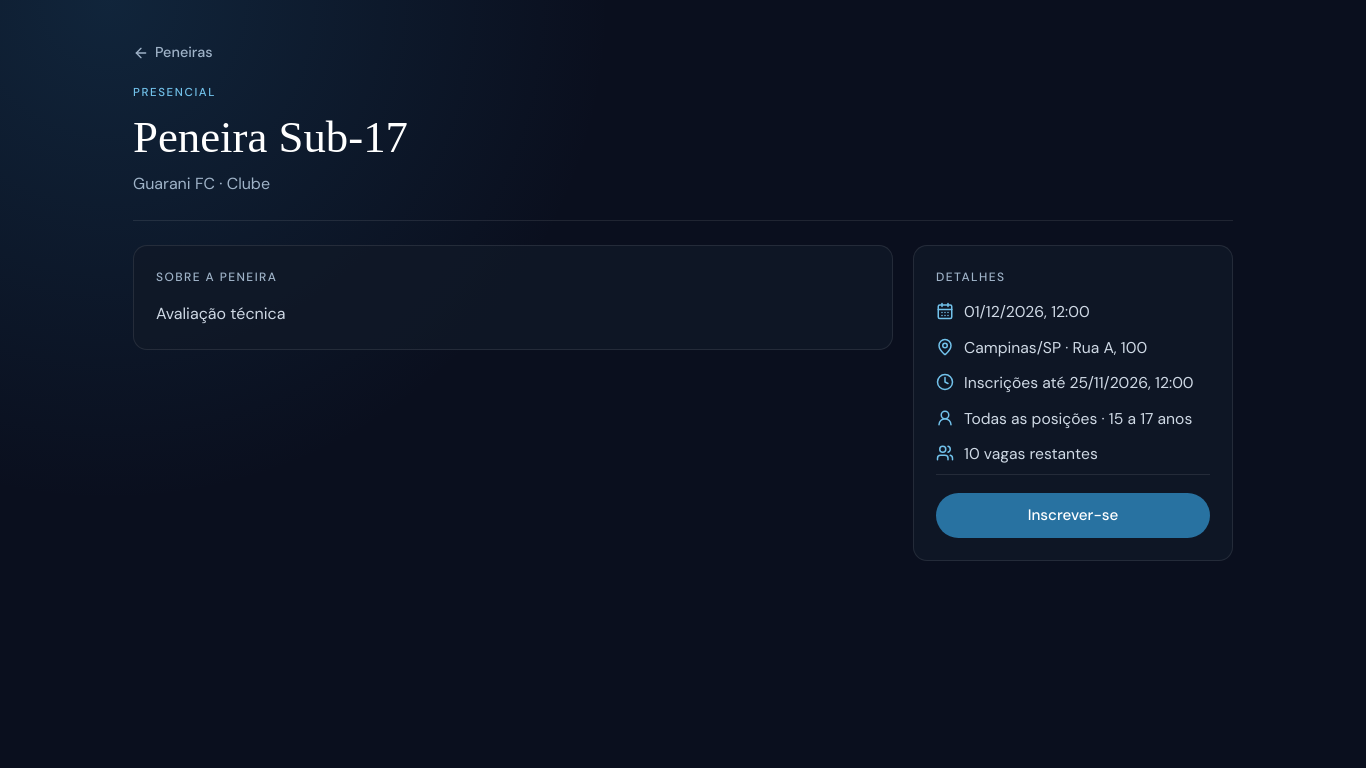
Test: OpportunityDetail — erros › mostra o erro da ação e limpa na próxima tentativa
This screenshot has width=1366, height=768.
Click the button "Inscrever-se". click: (1073, 515)
box: x1=936 y1=493 x2=1210 y2=538
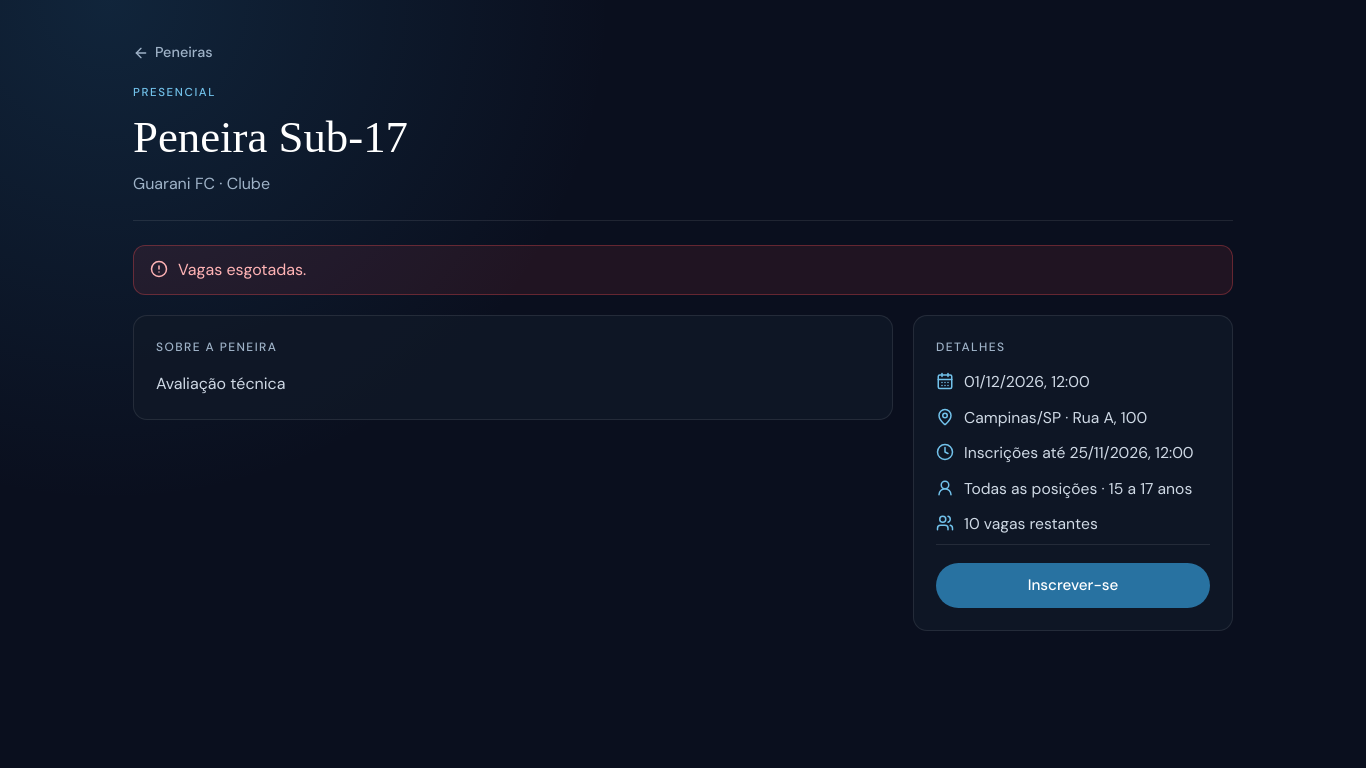
Check: the message reads "Vagas esgotadas.", box x1=178 y1=259 x2=306 y2=280
Click the button "Inscrever-se". click: (1073, 585)
box: x1=936 y1=563 x2=1210 y2=608
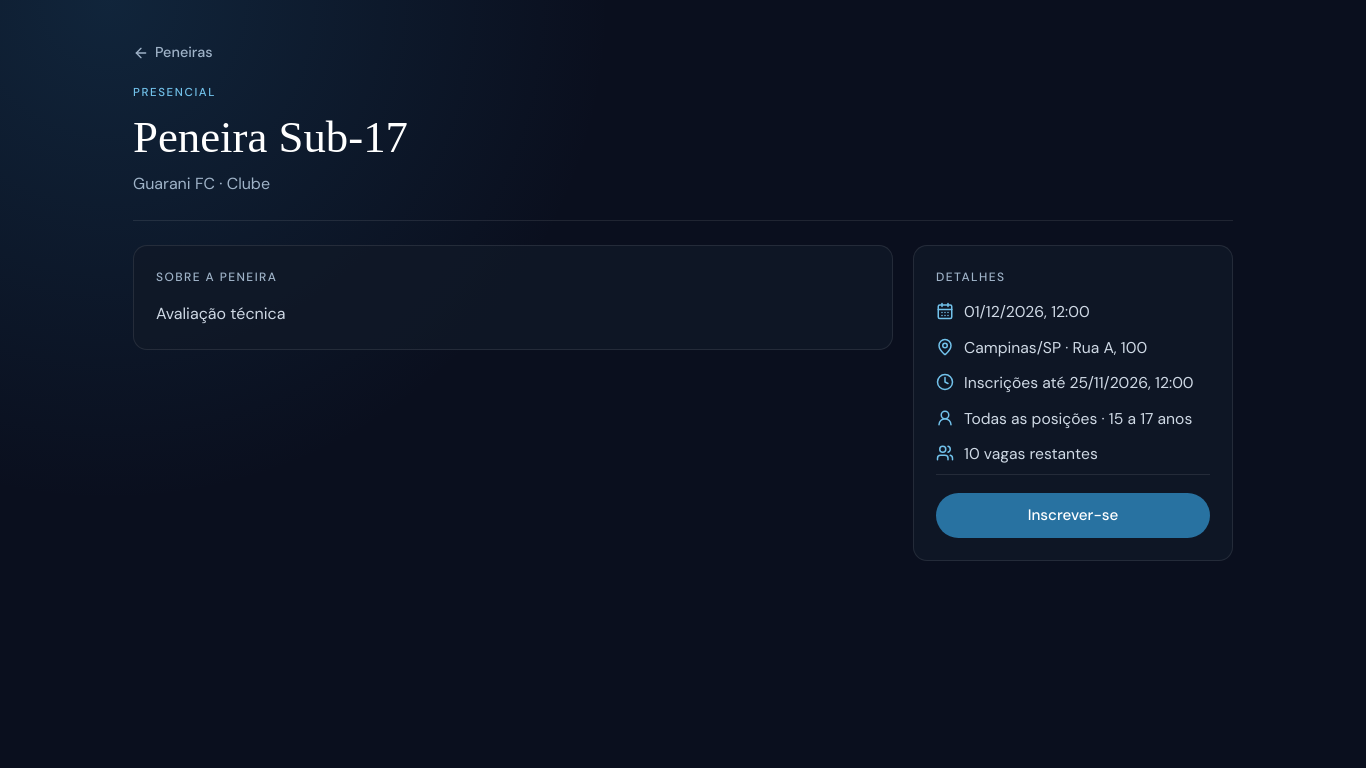
Check: the message "Vagas esgotadas." is gone
